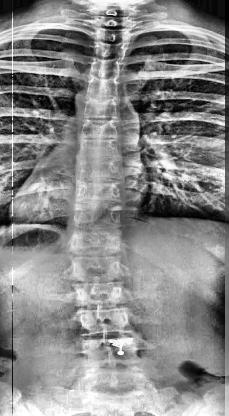Vertebrae: (73, 330, 143, 366), (71, 300, 139, 336), (76, 363, 146, 397), (70, 254, 132, 284), (68, 204, 128, 234), (70, 280, 130, 310), (66, 229, 128, 257), (71, 182, 127, 210), (74, 136, 126, 162), (72, 160, 128, 184), (77, 117, 125, 143), (81, 96, 125, 122), (82, 77, 128, 99), (88, 40, 132, 62), (85, 58, 129, 80), (90, 25, 134, 45), (92, 2, 136, 20), (91, 15, 138, 31)
